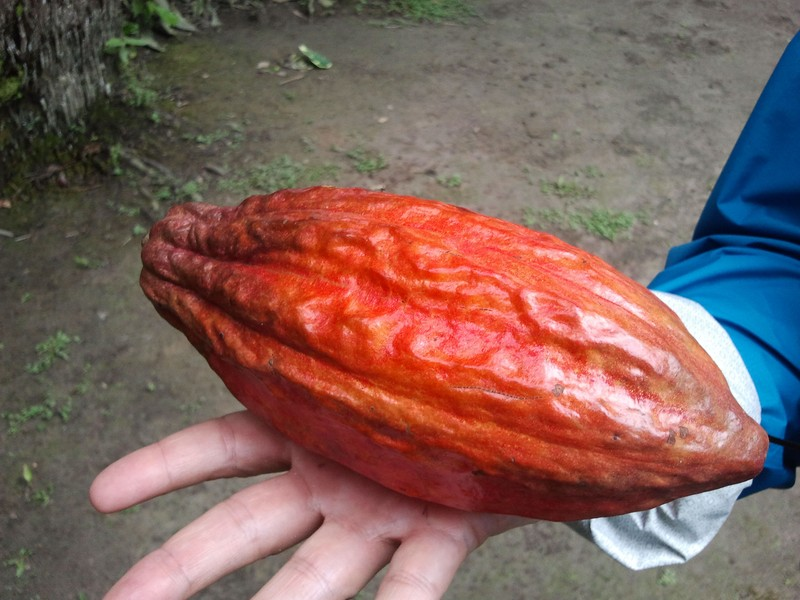Cacaopod: (139, 190, 768, 523)
